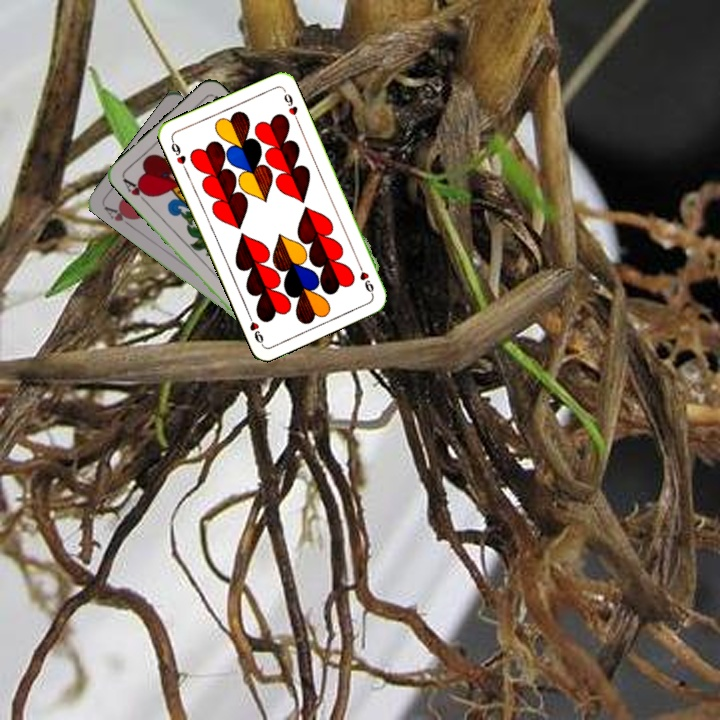H9: (167, 135, 189, 174), (354, 259, 376, 298)
HA: (119, 174, 153, 207), (100, 202, 137, 230)
